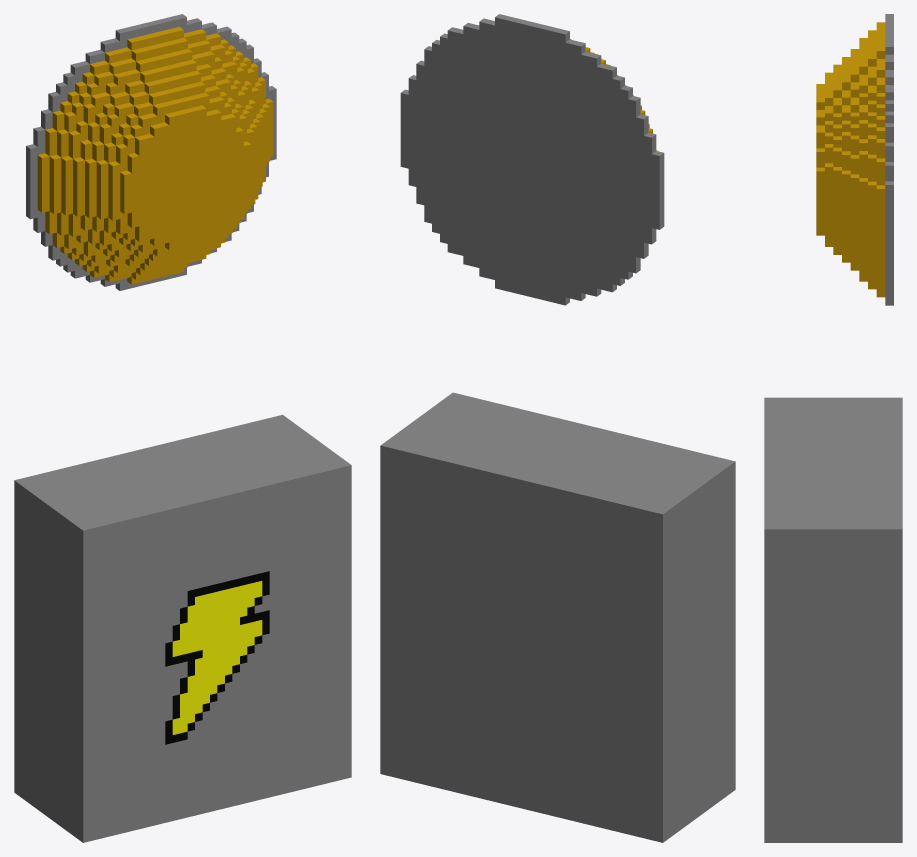
The model's file is powerbox.obj.
3 views of the same model, side by side, from view 1: azimuth 30°, elevation 25°; view 2: azimuth 150°, elevation 25°; view 3: azimuth 270°, elevation 25° (orthographic). The views are drawn at different scales.
Size of the model in its own units: 36 by 95 by 16.
1 material, 1 textured.
